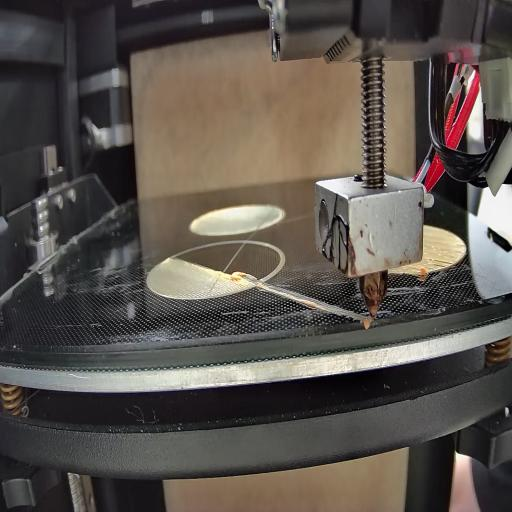under_extrusion: (229, 266, 263, 289), (423, 255, 452, 272), (452, 240, 466, 252)
